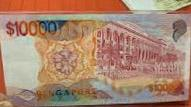10000SingaporeDollar: (7, 15, 187, 99)
